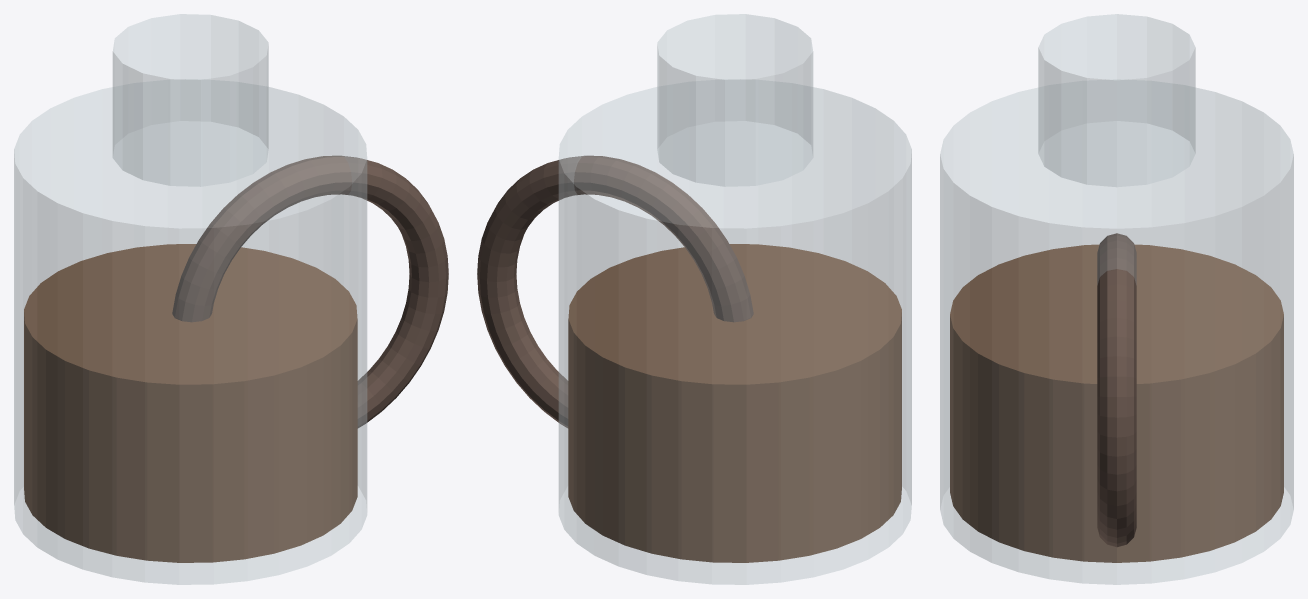
File: coffee-server.glb
The picture shows the model from 3 angles, left to right: view 1: azimuth 30°, elevation 25°; view 2: azimuth 150°, elevation 25°; view 3: azimuth 270°, elevation 25°; orthographic projection.
Parts seen in each view (by area): view 1: CoffeeServer_Body, CoffeeServer_Liquid, CoffeeServer_Neck, CoffeeServer_Handle; view 2: CoffeeServer_Body, CoffeeServer_Liquid, CoffeeServer_Neck, CoffeeServer_Handle; view 3: CoffeeServer_Body, CoffeeServer_Liquid, CoffeeServer_Neck, CoffeeServer_Handle.
Part boxes in pixels (x1,y1,x2,y2): CoffeeServer_Body: (14, 79, 367, 584); CoffeeServer_Liquid: (24, 244, 357, 562); CoffeeServer_Neck: (112, 14, 268, 186); CoffeeServer_Handle: (172, 155, 448, 427); CoffeeServer_Body: (558, 79, 911, 584); CoffeeServer_Liquid: (568, 244, 901, 562); CoffeeServer_Neck: (657, 14, 813, 186); CoffeeServer_Handle: (477, 155, 753, 427); CoffeeServer_Body: (940, 79, 1293, 584); CoffeeServer_Liquid: (950, 244, 1283, 562); CoffeeServer_Neck: (1038, 14, 1195, 186); CoffeeServer_Handle: (1097, 233, 1136, 547).
Size of the model in its own units: 0.24 by 0.26 by 0.18.
